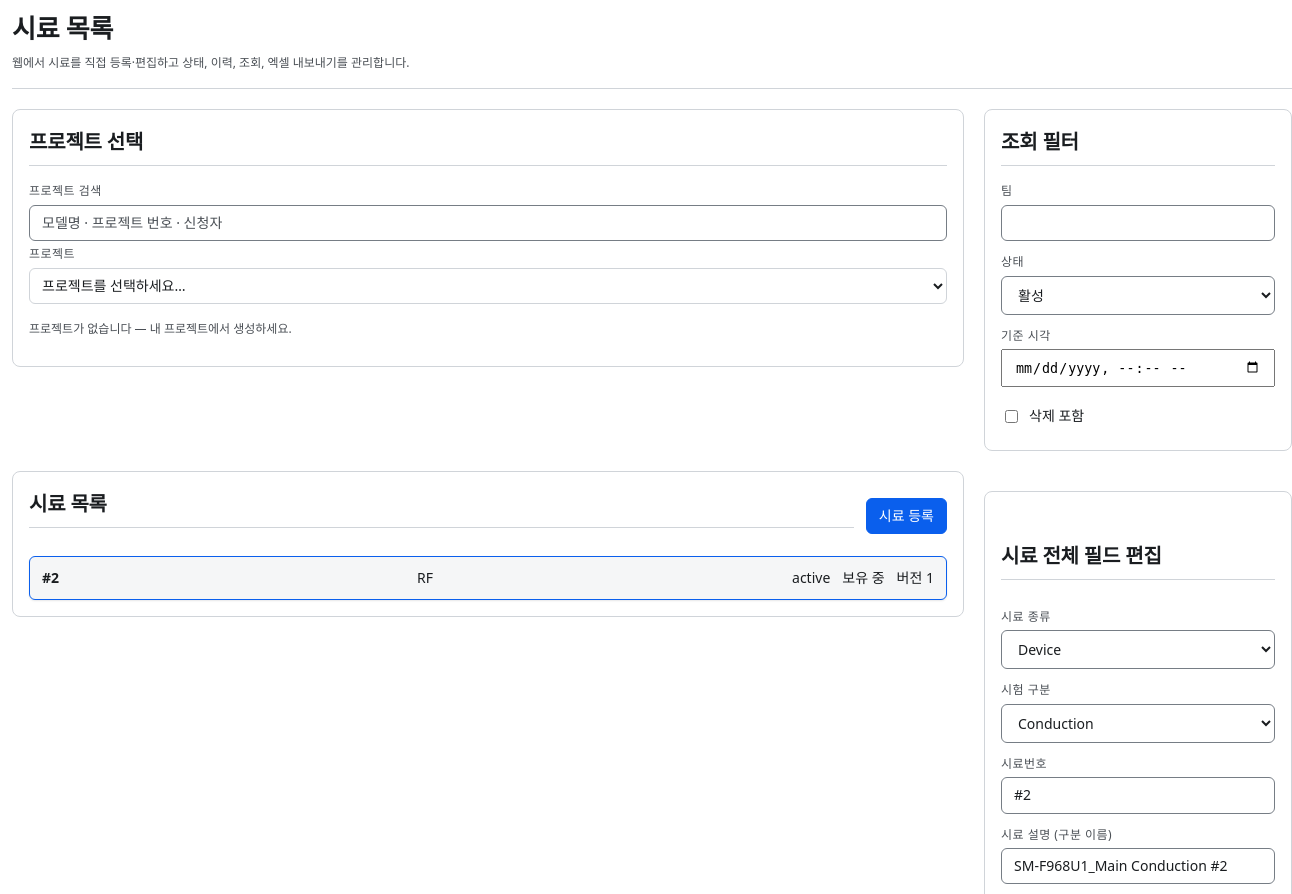
Test case: ④ 분류가 폼에 있다 › hides the Conducted/Radiated field for an Accessory
Expected: the dropdown with test id "sample-editor-test_category" is shown, [1001,704,1275,743]
Step 1. Select "Accessory" in the dropdown with test id "sample-editor-sample_kind" → (1138, 650), box [1001,630,1275,669]
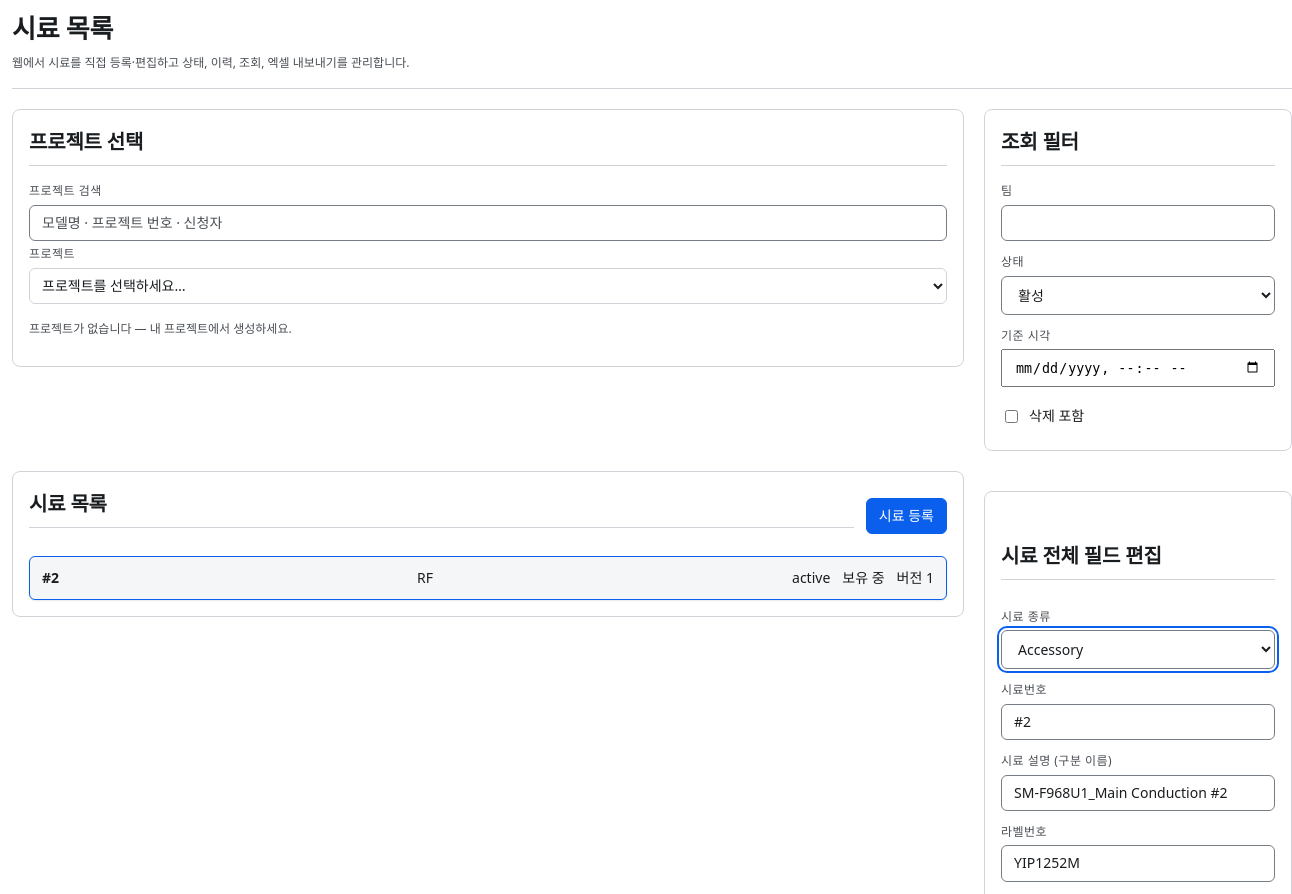
Result: the label with test id "sample-editor-test_category" is gone
